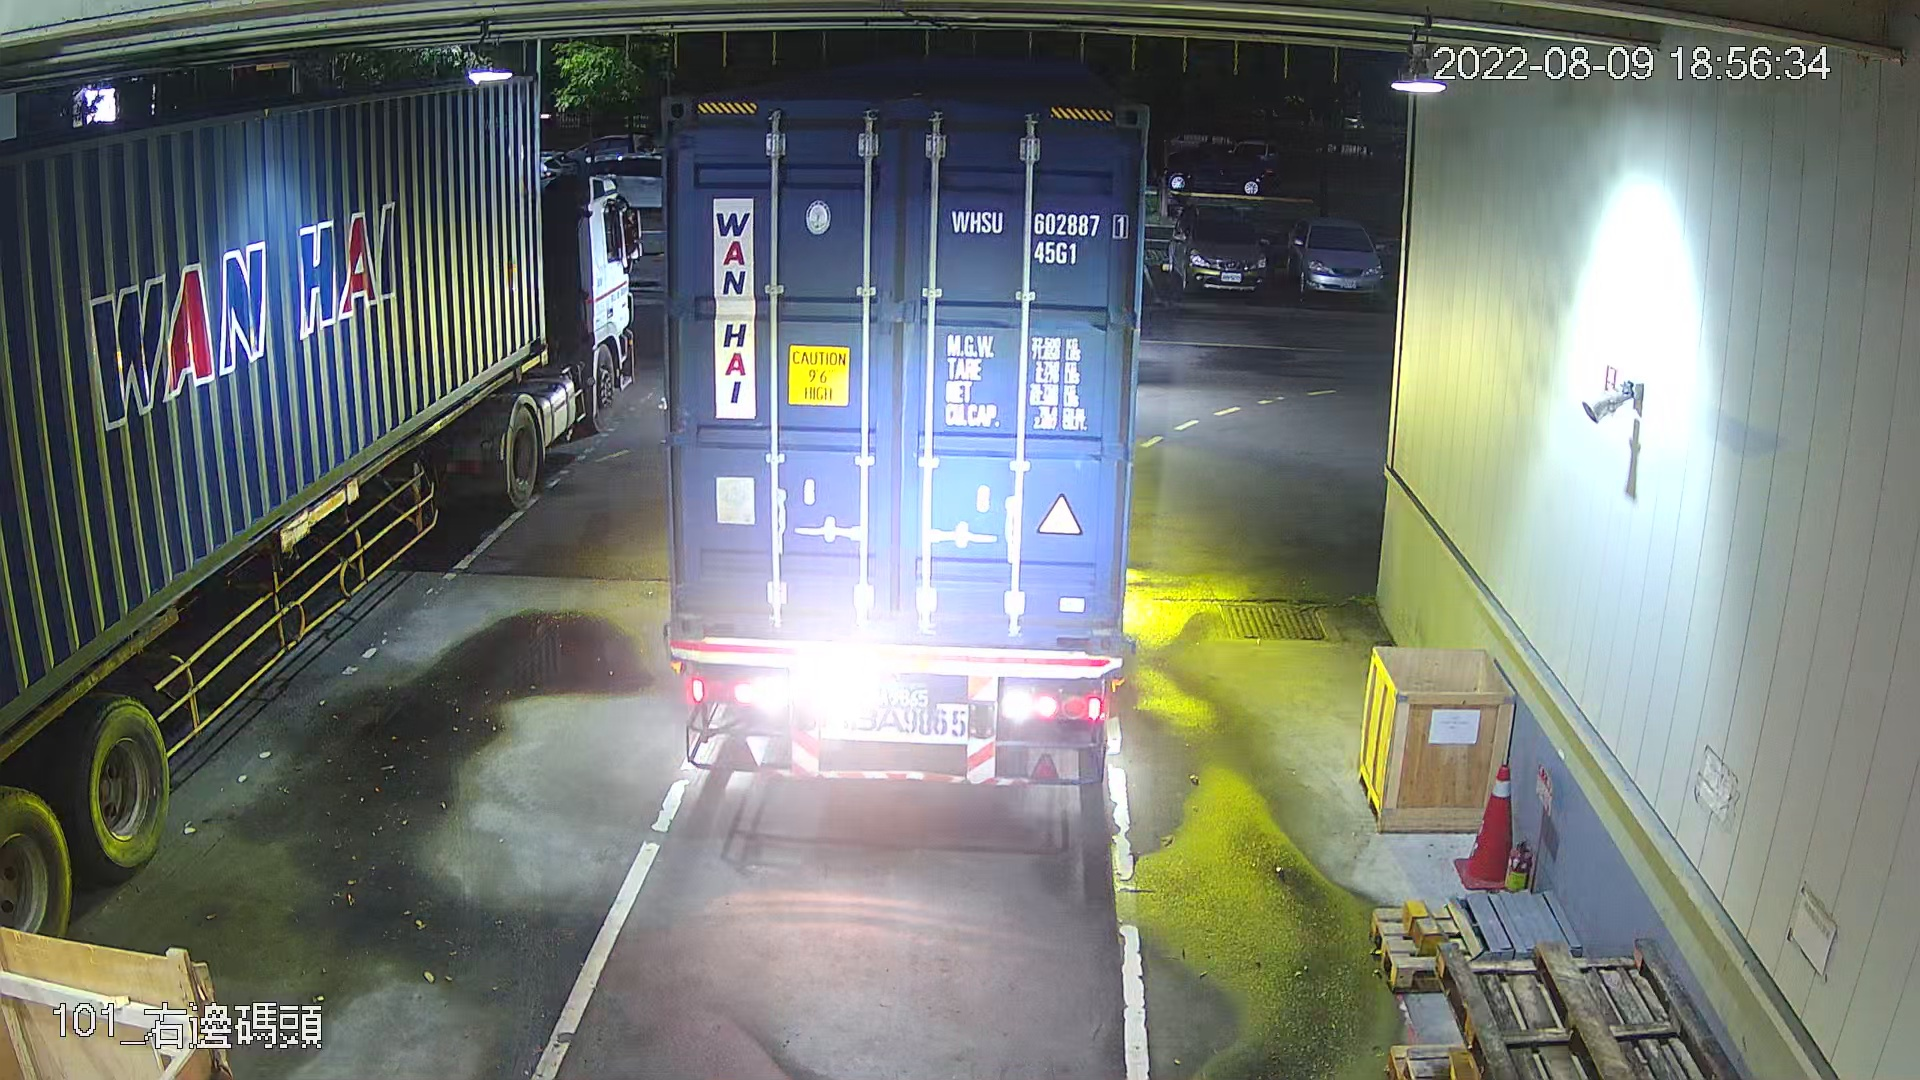container: (944, 196, 1135, 274)
